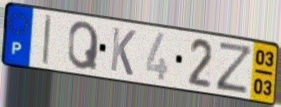2: (187, 37, 215, 91)
4: (144, 31, 170, 84)
I: (40, 13, 53, 68)
K: (108, 25, 138, 79)
Q: (67, 20, 101, 73)
Z: (215, 39, 255, 96)
